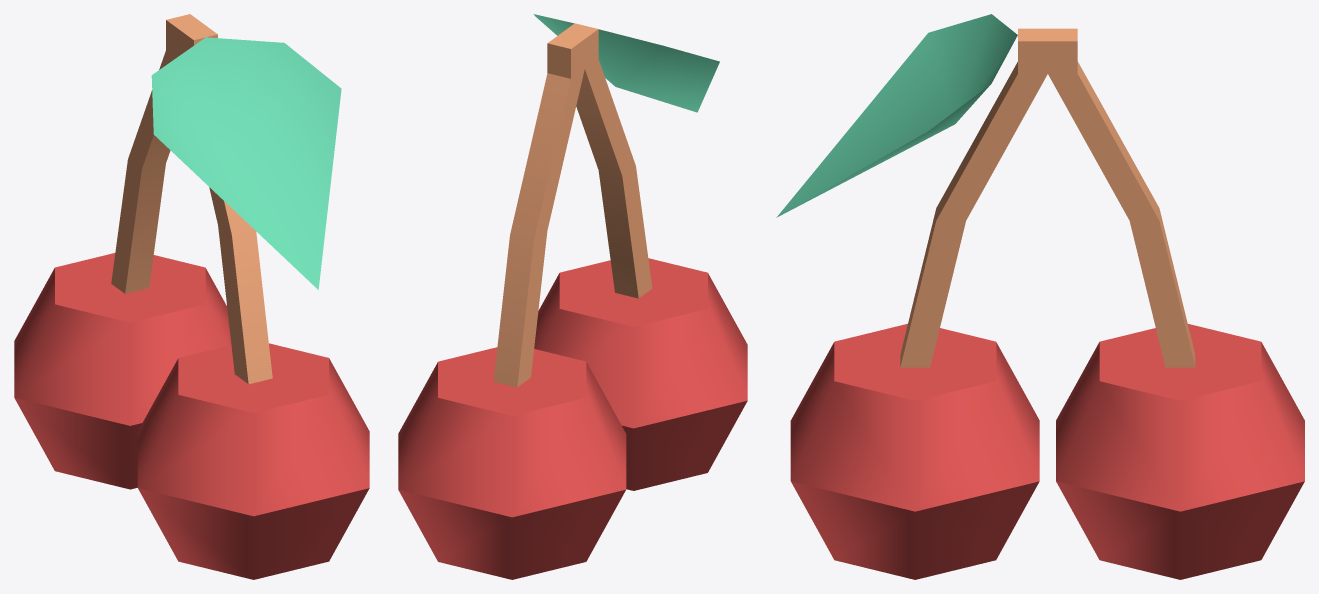
File: cherries.GLB
3 renders of one model, left to right at view 1: azimuth 30°, elevation 25°; view 2: azimuth 150°, elevation 25°; view 3: azimuth 270°, elevation 25°, orthographic. The views are drawn at different scales.
Parts seen in each view (by area): view 1: cherries; view 2: cherries; view 3: cherries.
Part boxes in pixels (bbox=[...]): cherries: bbox=[14, 14, 369, 579]; cherries: bbox=[398, 14, 747, 579]; cherries: bbox=[776, 14, 1304, 579].
Bounding box in the file's own units: 0.088 × 0.1707 × 0.1619.
